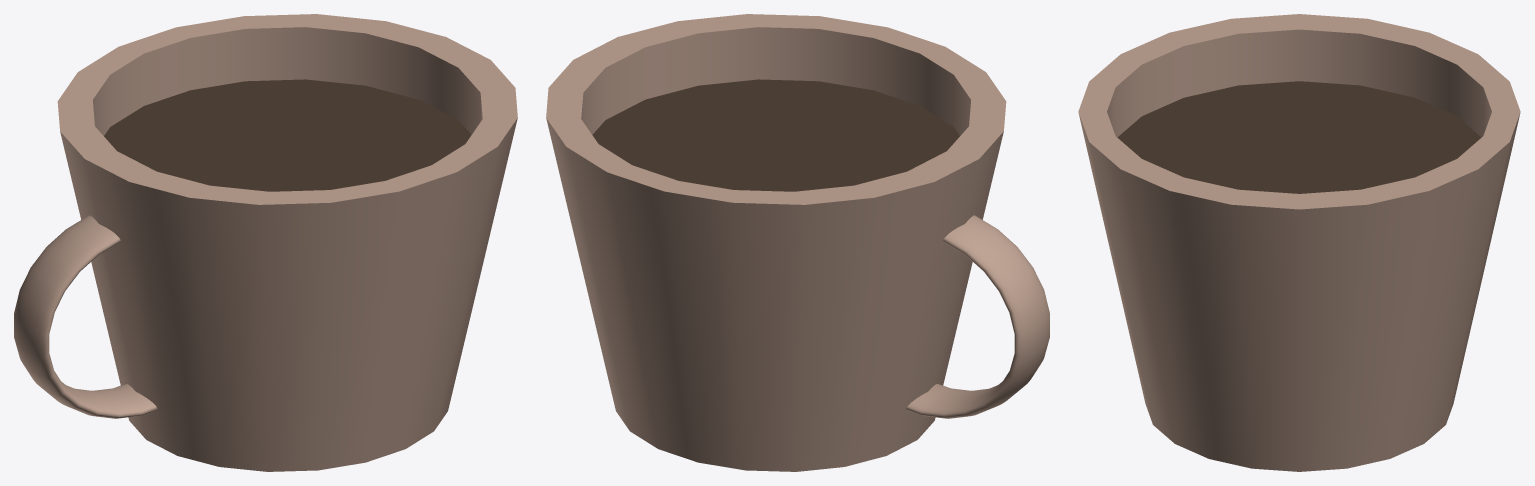
Rendered from colored mug bedroom.fbx.
3 views of the same model, side by side, from view 1: azimuth 30°, elevation 25°; view 2: azimuth 150°, elevation 25°; view 3: azimuth 270°, elevation 25° (orthographic).
Parts seen in each view (by area): view 1: pCylinder1, pCylinder2, pCylinder3; view 2: pCylinder1, pCylinder2, pCylinder3; view 3: pCylinder1, pCylinder2.
Part boxes in pixels (<box>): pCylinder1: <box>57,14,517,471</box>; pCylinder2: <box>104,79,471,191</box>; pCylinder3: <box>14,215,157,418</box>; pCylinder1: <box>546,14,1006,471</box>; pCylinder2: <box>592,79,959,191</box>; pCylinder3: <box>906,215,1049,418</box>; pCylinder1: <box>1078,14,1520,471</box>; pCylinder2: <box>1117,81,1481,193</box>.
Bounding box in the file's own units: 0.1478 × 0.0895 × 0.1228.
